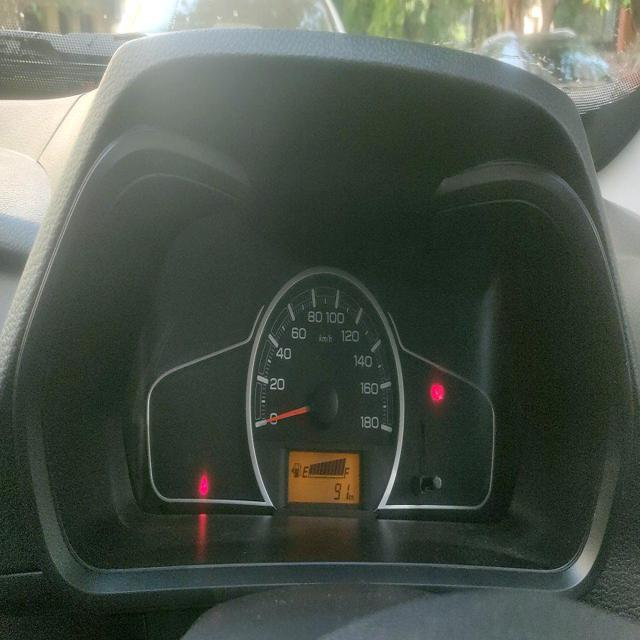odometer: (329, 478, 352, 505)
